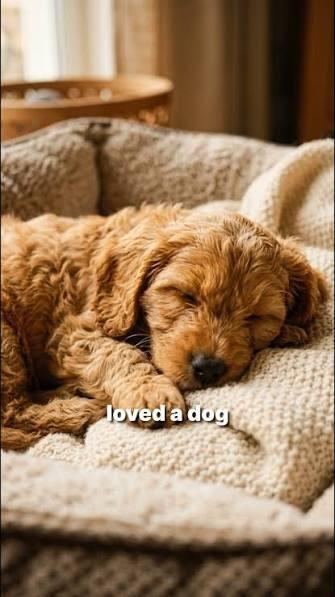puppy-dog: (1, 204, 327, 452)
